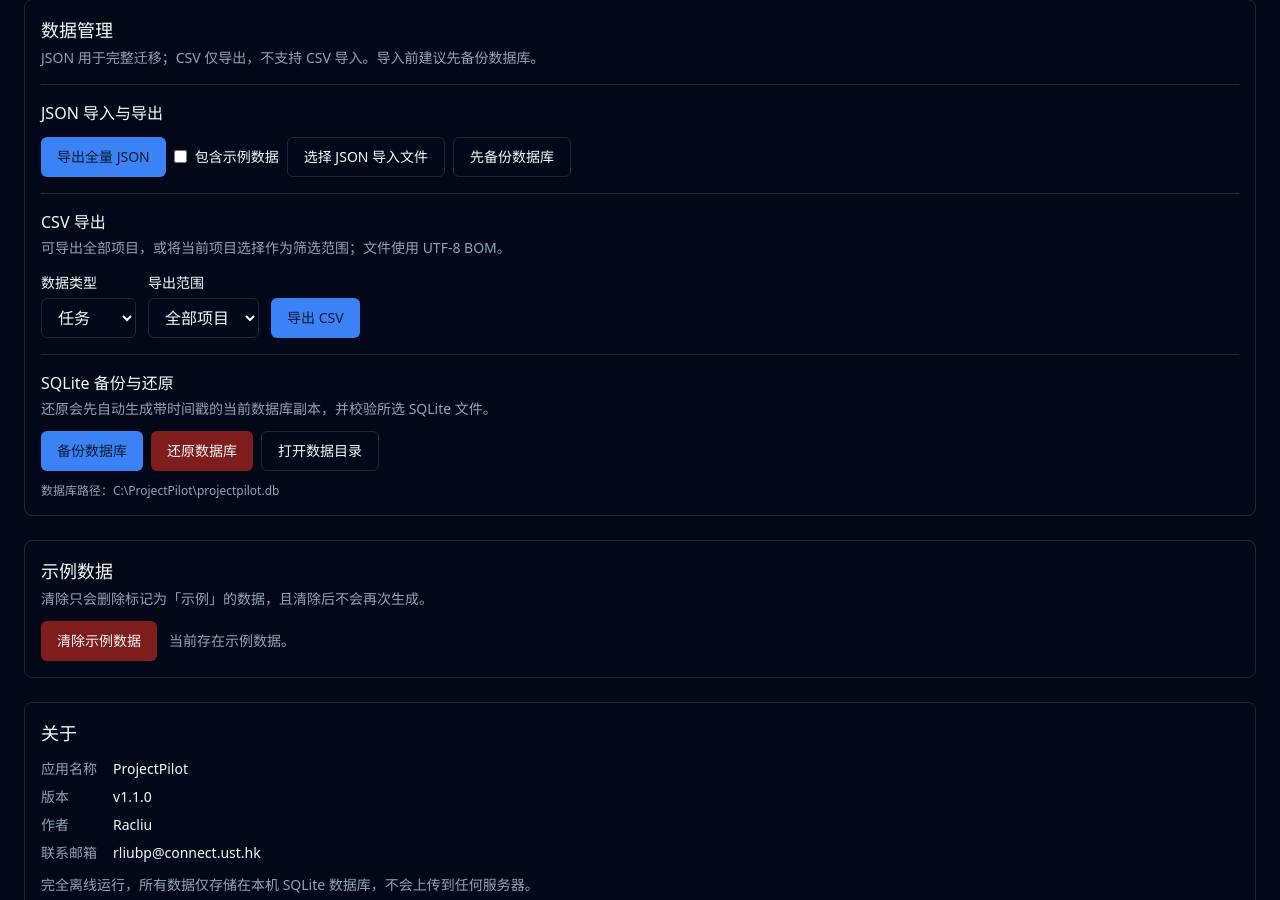
SettingsPage 数据交换验收 › 还原确认框明确提示不可撤销
(page scrolled)
Click the button "还原数据库". click: coordinates (202, 451)
box: [151,431,253,471]
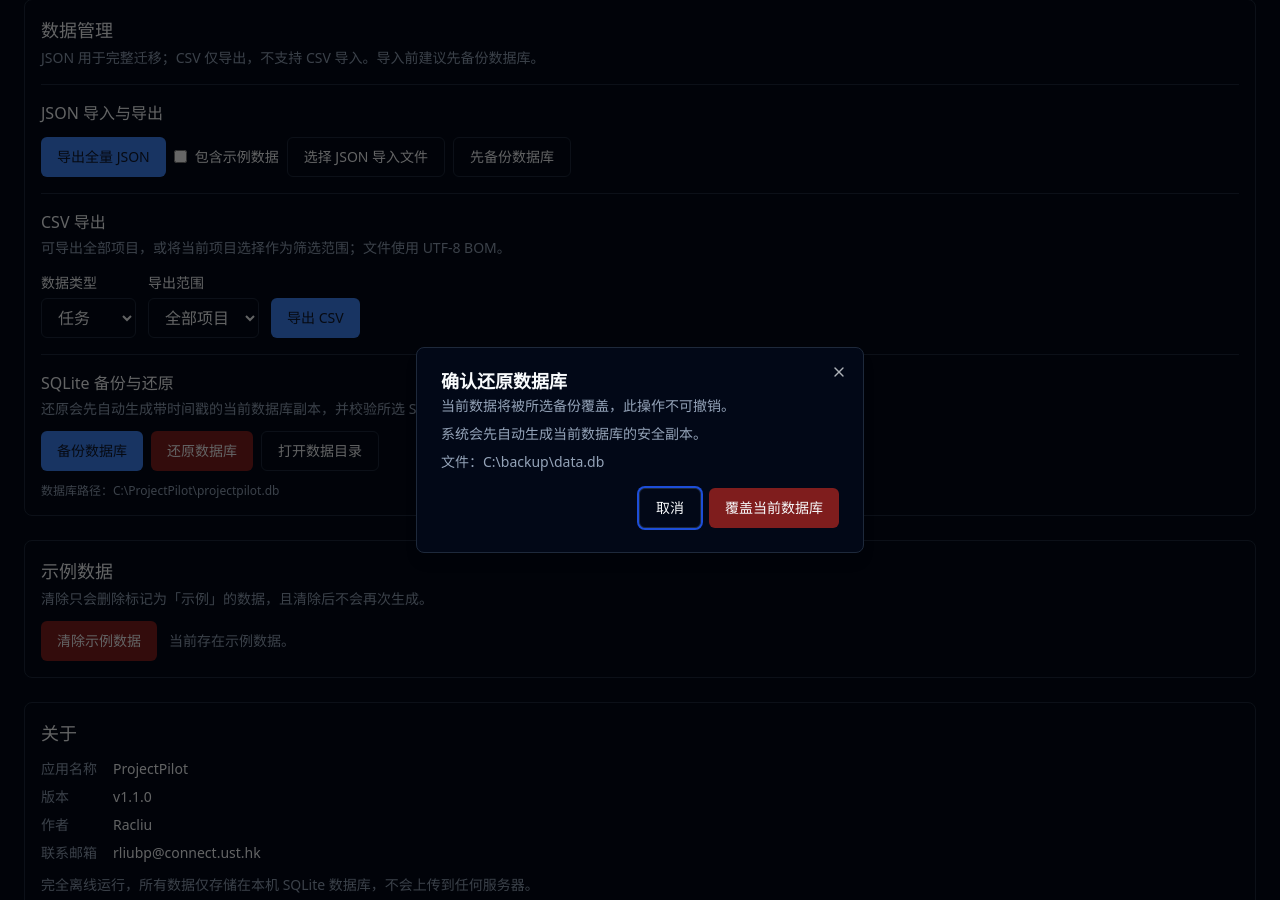
Expected: the heading "确认还原数据库" is shown, [441,369,567,393]
Expected: the text "当前数据将被所选备份覆盖，此操作不可撤销。" is shown, [441,396,735,415]
